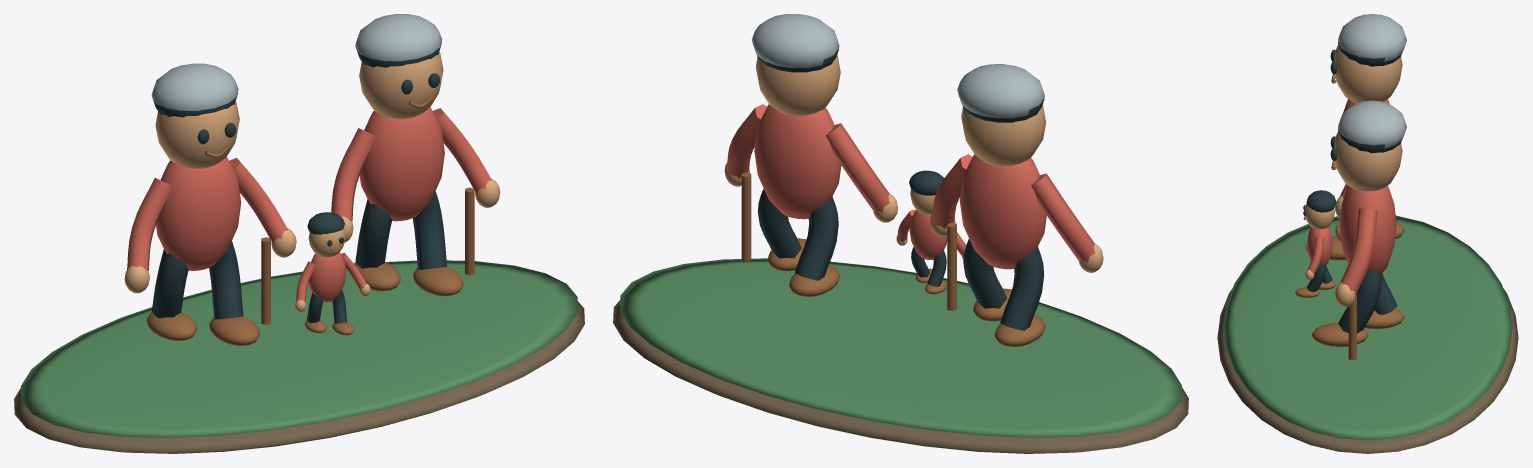
File: grandfather.glb
The picture shows the model from 3 angles, left to right: view 1: azimuth 30°, elevation 25°; view 2: azimuth 150°, elevation 25°; view 3: azimuth 270°, elevation 25°; orthographic projection. The views are drawn at different scales.
Visible parts, largest first — view 1: grandfather_surface_01, grandfather_surface_05, grandfather_surface_03, grandfather_surface_00, grandfather_surface_02, grandfather_surface_04, grandfather_surface_06; view 2: grandfather_surface_01, grandfather_surface_05, grandfather_surface_00, grandfather_surface_03, grandfather_surface_02, grandfather_surface_06, grandfather_surface_04; view 3: grandfather_surface_01, grandfather_surface_02, grandfather_surface_05, grandfather_surface_00, grandfather_surface_06, grandfather_surface_03, grandfather_surface_04.
Boxes of the visible parts, x1,y1,x2,y2 form: grandfather_surface_01: (21, 260, 577, 437); grandfather_surface_05: (127, 107, 491, 302); grandfather_surface_03: (151, 42, 447, 323); grandfather_surface_00: (14, 301, 584, 453); grandfather_surface_02: (124, 52, 500, 312); grandfather_surface_04: (146, 96, 474, 345); grandfather_surface_06: (151, 14, 442, 110); grandfather_surface_01: (620, 258, 1181, 437); grandfather_surface_05: (727, 104, 1095, 269); grandfather_surface_00: (613, 300, 1188, 453); grandfather_surface_03: (757, 48, 1044, 330); grandfather_surface_02: (724, 54, 1103, 272); grandfather_surface_06: (751, 14, 1044, 118); grandfather_surface_04: (741, 172, 1045, 346); grandfather_surface_01: (1223, 215, 1512, 440); grandfather_surface_02: (1305, 45, 1402, 307); grandfather_surface_05: (1307, 99, 1396, 295); grandfather_surface_00: (1217, 289, 1518, 453); grandfather_surface_06: (1338, 14, 1406, 148); grandfather_surface_03: (1303, 42, 1401, 333); grandfather_surface_04: (1295, 74, 1404, 360).
Size of the model in its own units: 4.56 by 2.65 by 2.5.
